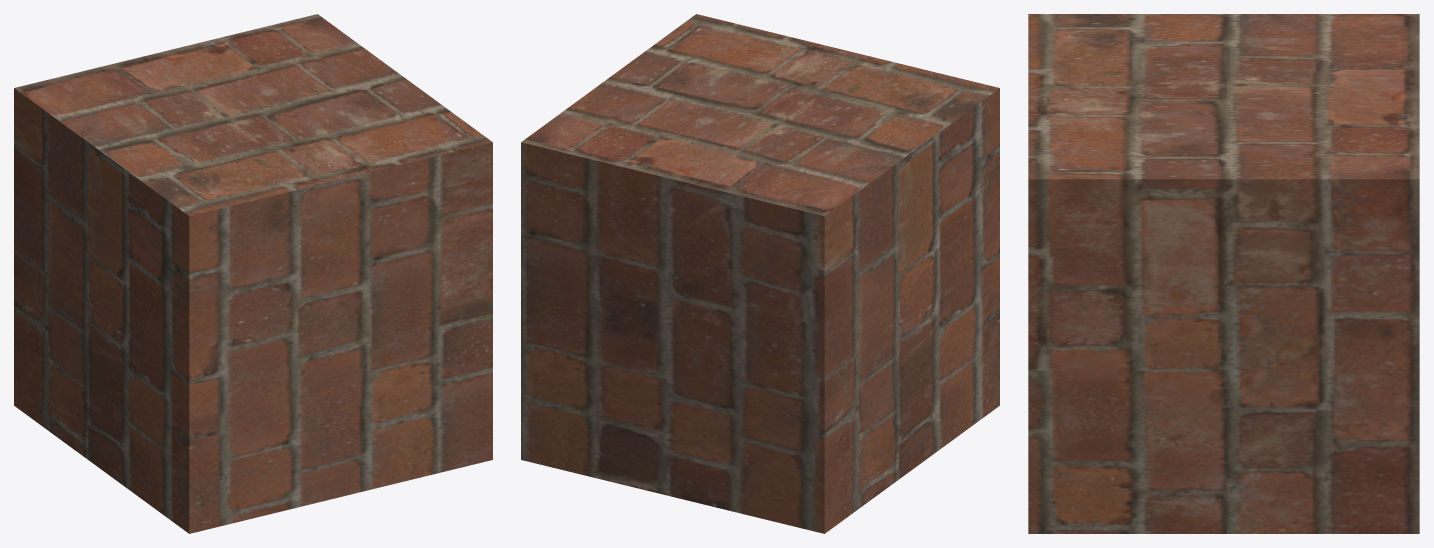
Rendered from NormalCube.obj.
The picture shows the model from 3 angles, left to right: view 1: azimuth 30°, elevation 25°; view 2: azimuth 150°, elevation 25°; view 3: azimuth 270°, elevation 25°; orthographic projection. The views are drawn at different scales.
Parts seen in each view (by area): view 1: Cube; view 2: Cube; view 3: Cube.
Boxes of the visible parts, left/top/right/bottom form: Cube: left=14, top=14, right=492, bottom=533; Cube: left=521, top=14, right=999, bottom=533; Cube: left=1028, top=14, right=1419, bottom=533.
Size of the model in its own units: 2 by 2 by 2.
1 material, 1 textured.
